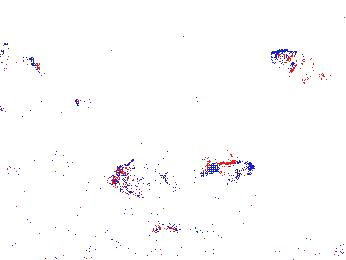X-ray fish: (271, 47, 332, 88)
red belly glassfish: (149, 221, 195, 239), (72, 91, 98, 115)
redtail glassfish: (101, 167, 184, 198), (1, 37, 52, 77), (205, 156, 258, 184)
